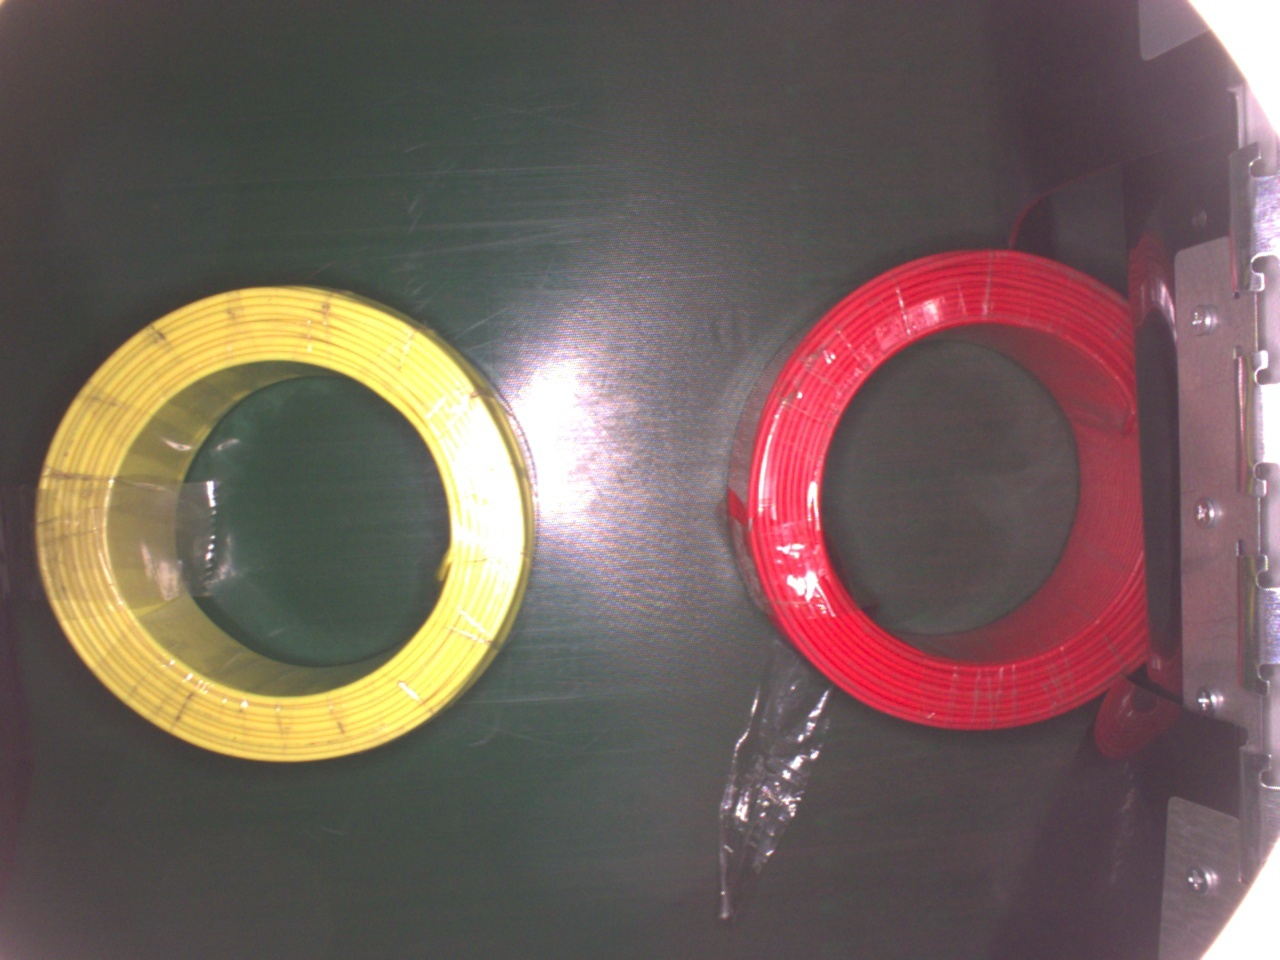red: (723, 246, 1155, 734)
yellow: (31, 281, 541, 767)
